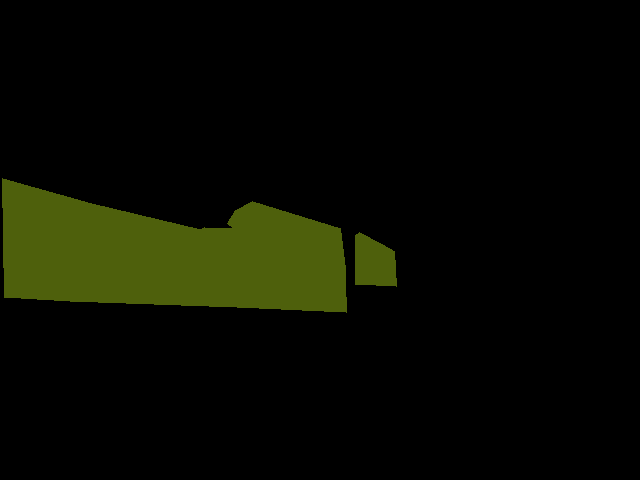Train: (2, 178, 397, 312)
